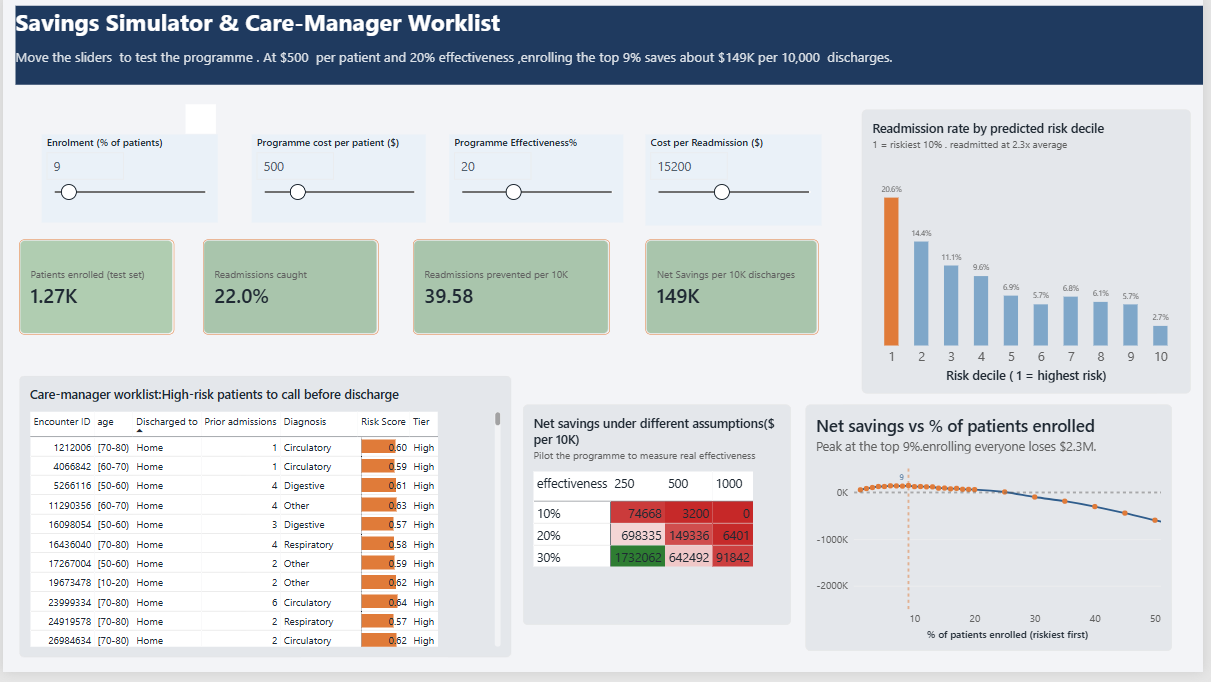

The page's visual inventory and layout, read from the dashboard file:
{"tool":"powerbi","page":{"name":"Savings Simulator","canvas":[1920,1080],"ordinal":2},"visuals":[{"type":"textbox","box":[19.9,14.5,1900.1,126.7],"z":0},{"type":"slicer","fields":{"Values":["Enrolment.Enrolment"]},"box":[61.5,220.8,280.5,141.2],"z":1000},{"type":"slicer","fields":{"Values":["Programme cost.Programme cost"]},"box":[398.1,220.8,278.7,141.2],"z":2000},{"type":"slicer","fields":{"Values":["Effectiveness%.Effectiveness%"]},"box":[713,220.8,278.7,141.2],"z":3000},{"type":"slicer","fields":{"Values":["Cost per Readmission.Cost per Readmission"]},"box":[1027.9,220.8,280.5,144.8],"z":4000},{"type":"cardVisual","fields":{"Data":["_Measures.Enrolled Patients"]},"box":[25.3,387.3,247.9,152],"z":5000},{"type":"cardVisual","fields":{"Data":["_Measures.Capture Rate"]},"box":[320.3,387.3,280.5,152],"z":6000},{"type":"cardVisual","fields":{"Data":["_Measures.Prevented per 10K"]},"box":[655.1,387.3,314.9,152],"z":7000},{"type":"cardVisual","fields":{"Data":["_Measures.Net Savings per 10K"]},"box":[1027.9,387.3,276.9,152],"z":8000},{"type":"lineChart","title":"Net savings vs % of patients enrolled","fields":{"Category":["Scenarios.pct_enrolled"],"Y":["Sum(Scenarios.net_savings_usd)"]},"box":[1283,651.5,586.3,394.5],"z":9000},{"type":"clusteredColumnChart","title":"Readmission rate by predicted risk decile","fields":{"Category":["PatientRisk.Risk Decile"],"Y":["Cost per Readmission.Decile Readmission Rate"]},"box":[1373.5,181,526.6,454.2],"z":10000},{"type":"pivotTable","title":"Net savings under different assumptions($ per 10K)","fields":{"Columns":["Sensitivity.cost_per_patient"],"Rows":["Sensitivity.effectiveness"],"Values":["Sum(Sensitivity.net_savings_per_10k)"]},"box":[832.4,651.5,428.9,352.9],"z":11000},{"type":"tableEx","title":"Care-manager worklist:High-risk patients to call before discharge","fields":{"Values":["PatientRisk.encounter_id","PatientRisk.age","PatientRisk.discharge_group","PatientRisk.number_inpatient","PatientRisk.primary_diagnosis","PatientRisk.risk_score","PatientRisk.risk_tier"]},"box":[25.3,606.2,787.2,450.6],"z":12000}]}

Visuals, with their boxes in screenshot pixels (x1, y1, x2, y2), scaled from the page's 1920x1080 canvas onto the 1211x682 screenshot:
textbox: 13,9,1210,89
slicer - Enrolment.Enrolment: 39,139,216,229
slicer - Programme cost.Programme cost: 251,139,427,229
slicer - Effectiveness%.Effectiveness%: 450,139,625,229
slicer - Cost per Readmission.Cost per Readmission: 648,139,825,231
cardVisual - _Measures.Enrolled Patients: 16,245,172,341
cardVisual - _Measures.Capture Rate: 202,245,379,341
cardVisual - _Measures.Prevented per 10K: 413,245,612,341
cardVisual - _Measures.Net Savings per 10K: 648,245,823,341
"Net savings vs % of patients enrolled" lineChart: 809,411,1179,661
"Readmission rate by predicted risk decile" clusteredColumnChart: 866,114,1198,401
"Net savings under different assumptions($ per 10K)" pivotTable: 525,411,796,634
"Care-manager worklist:High-risk patients to call before discharge" tableEx: 16,383,512,667
